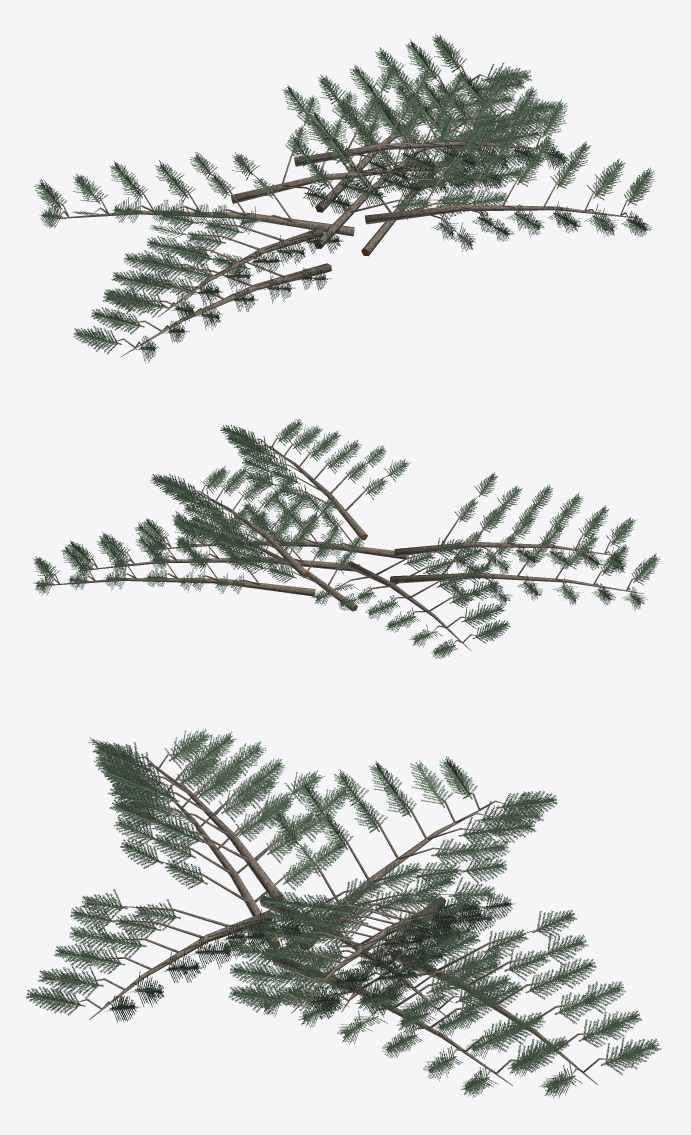
The model's file is SS_Brash_Green_01_LOD1.fbx.
3 views of the same model, one above another, from view 1: azimuth 30°, elevation 25°; view 2: azimuth 150°, elevation 25°; view 3: azimuth 270°, elevation 25° (orthographic). The views are drawn at different scales.
Parts seen in each view (by area): view 1: SS_Brash_Green_01_LOD1_Foliage, SS_Brash_Green_01_LOD1_Structure; view 2: SS_Brash_Green_01_LOD1_Foliage, SS_Brash_Green_01_LOD1_Structure; view 3: SS_Brash_Green_01_LOD1_Foliage, SS_Brash_Green_01_LOD1_Structure.
Part boxes in pixels (bbox=[...]): SS_Brash_Green_01_LOD1_Foliage: bbox=[34, 33, 654, 363]; SS_Brash_Green_01_LOD1_Structure: bbox=[49, 62, 639, 356]; SS_Brash_Green_01_LOD1_Foliage: bbox=[32, 419, 660, 659]; SS_Brash_Green_01_LOD1_Structure: bbox=[50, 438, 643, 651]; SS_Brash_Green_01_LOD1_Foliage: bbox=[26, 729, 661, 1098]; SS_Brash_Green_01_LOD1_Structure: bbox=[72, 754, 614, 1085].
Bounding box in the file's own units: 665 × 134 × 512.
